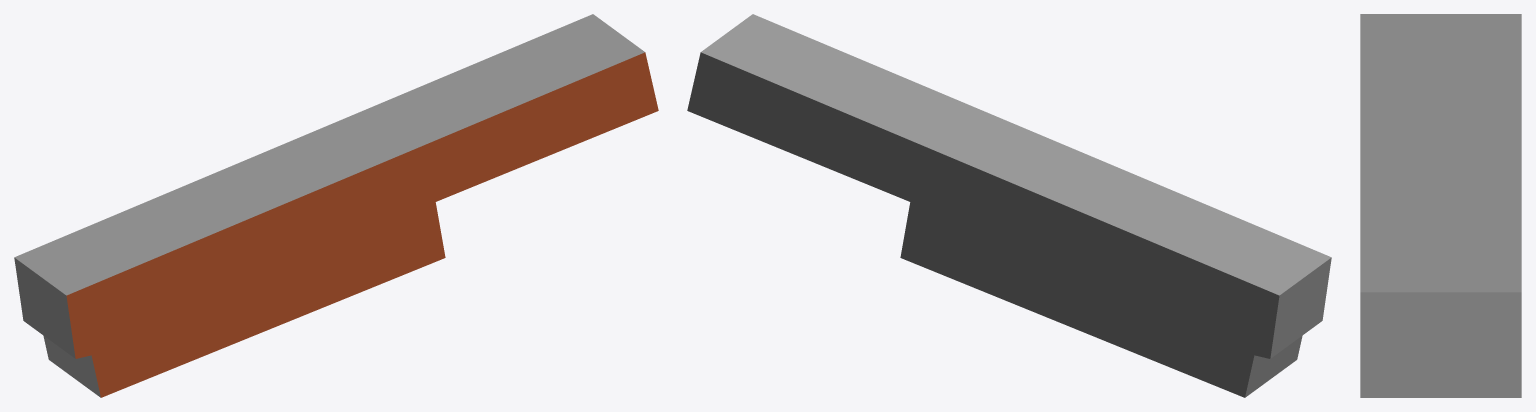
File: construction_5736_assumed_A_Casa_h6m.obj
The picture shows the model from 3 angles, left to right: view 1: azimuth 30°, elevation 25°; view 2: azimuth 150°, elevation 25°; view 3: azimuth 270°, elevation 25°; orthographic projection. The views are drawn at different scales.
Visible parts, largest first — view 1: construction_5736_assumed_A_Casa; view 2: construction_5736_assumed_A_Casa; view 3: construction_5736_assumed_A_Casa.
Part boxes in pixels (x1,y1,x2,y2): construction_5736_assumed_A_Casa: (14,14,658,397); construction_5736_assumed_A_Casa: (687,14,1331,397); construction_5736_assumed_A_Casa: (1360,14,1521,397).
Size of the model in its own units: 39.26 by 13.49 by 6.
